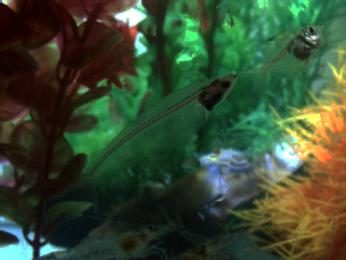X-ray fish: (248, 24, 325, 88)
glassfish: (64, 71, 239, 201)
siberian prawn: (53, 219, 178, 260), (159, 231, 241, 260)
